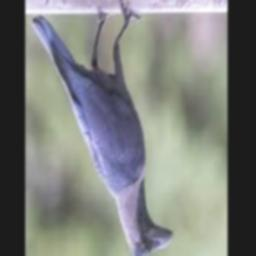Crow: (31, 4, 172, 256)
